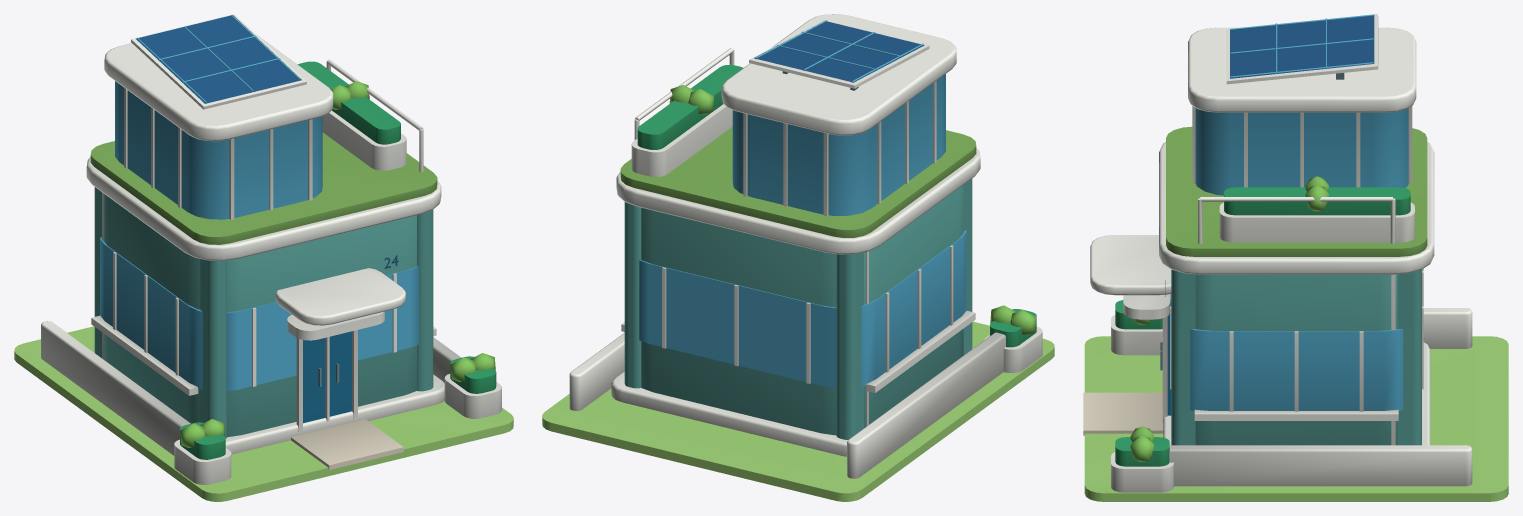
The model's file is house-terrace-low.glb.
3 renders of one model, left to right at view 1: azimuth 30°, elevation 25°; view 2: azimuth 150°, elevation 25°; view 3: azimuth 270°, elevation 25°, orthographic. The views are drawn at different scales.
Parts seen in each view (by area): view 1: house footing, continuous blue glazing, house shell, residential garden, residential roof garden, photovoltaic cells, planter foliage, recessed entrance, front walk, shrub tip; view 2: house footing, continuous blue glazing, house shell, residential garden, residential roof garden, photovoltaic cells, planter foliage, shrub tip; view 3: house footing, continuous blue glazing, house shell, residential garden, residential roof garden, photovoltaic cells, planter foliage, front walk, shrub tip.
Boxes of the visible parts, <box> form: house footing: <box>41,14,501,484</box>; continuous blue glazing: <box>100,15,418,391</box>; house shell: <box>94,187,433,438</box>; residential garden: <box>14,326,513,501</box>; residential roof garden: <box>90,132,437,244</box>; photovoltaic cells: <box>136,15,301,103</box>; planter foliage: <box>180,61,496,459</box>; recessed entrance: <box>303,331,351,423</box>; front walk: <box>291,419,403,469</box>; shrub tip: <box>180,81,495,447</box>; house footing: <box>569,14,1042,478</box>; continuous blue glazing: <box>639,20,966,388</box>; house shell: <box>624,179,972,439</box>; residential garden: <box>542,321,1054,501</box>; residential roof garden: <box>620,127,976,237</box>; photovoltaic cells: <box>754,21,924,82</box>; planter foliage: <box>637,64,1036,347</box>; shrub tip: <box>669,85,1036,335</box>; house footing: <box>1090,14,1472,492</box>; continuous blue glazing: <box>1190,14,1408,410</box>; house shell: <box>1171,269,1421,445</box>; residential garden: <box>1084,336,1508,501</box>; residential roof garden: <box>1166,126,1427,256</box>; photovoltaic cells: <box>1230,14,1374,78</box>; planter foliage: <box>1115,187,1410,466</box>; front walk: <box>1083,392,1163,435</box>; shrub tip: <box>1130,176,1328,461</box>.
Size of the model in its own units: 2.73 by 2.91 by 3.09.
